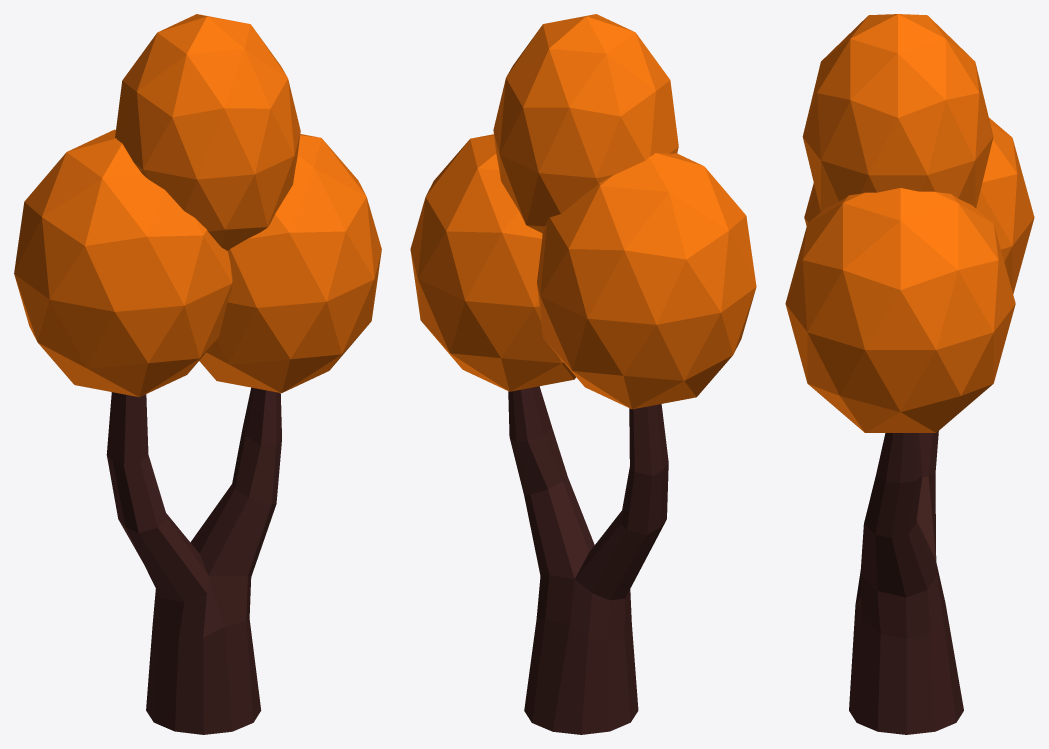
Rendered from Tree8.fbx.
3 views of the same model, side by side, from view 1: azimuth 30°, elevation 25°; view 2: azimuth 150°, elevation 25°; view 3: azimuth 270°, elevation 25° (orthographic).
Visible parts, largest first — view 1: Tree8; view 2: Tree8; view 3: Tree8.
Part boxes in pixels (x1,y1,x2,y2): Tree8: (14,14,381,734); Tree8: (410,14,756,734); Tree8: (785,14,1034,734).
Size of the model in its own units: 646 by 1334 by 433.
